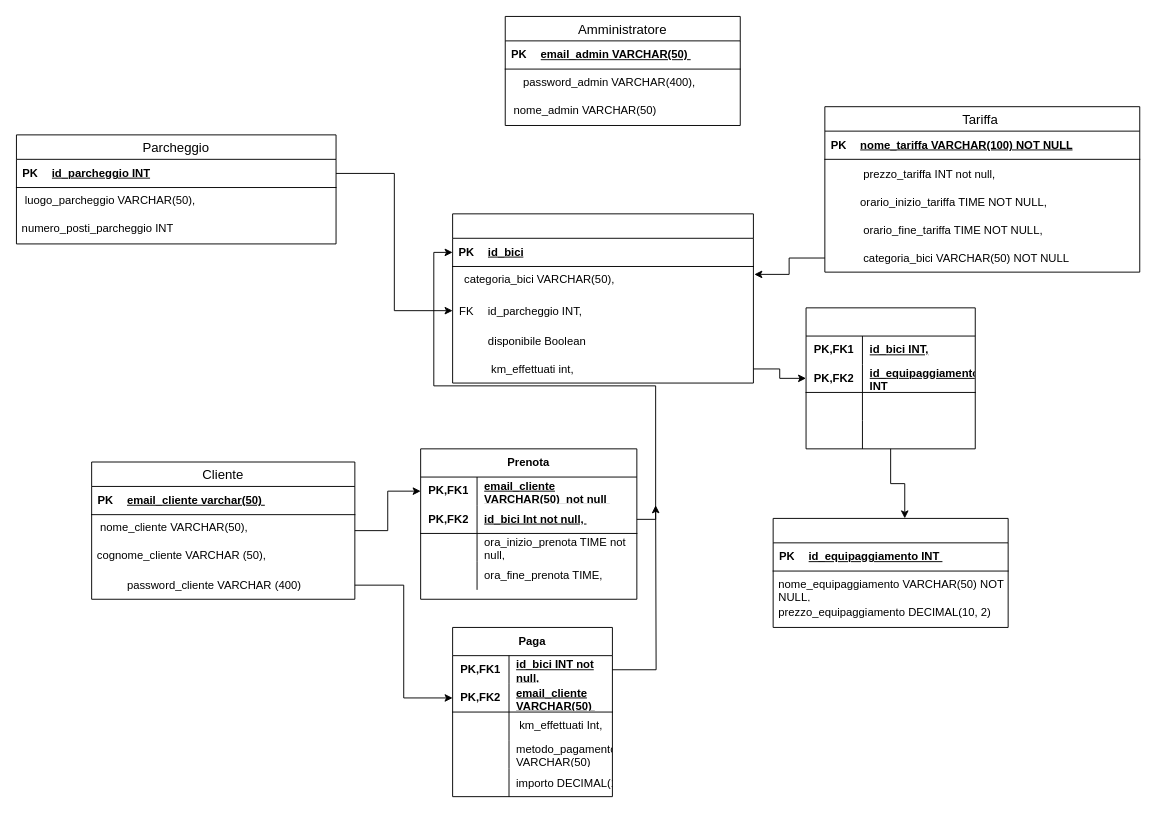
This 1156x813 diagram has some shape labels left out. Each missing label, with the box of its shape:
Bicicletta: (452, 213, 753, 383)
Equipaggamento: (772, 517, 1008, 627)
Possiede: (805, 307, 975, 449)
